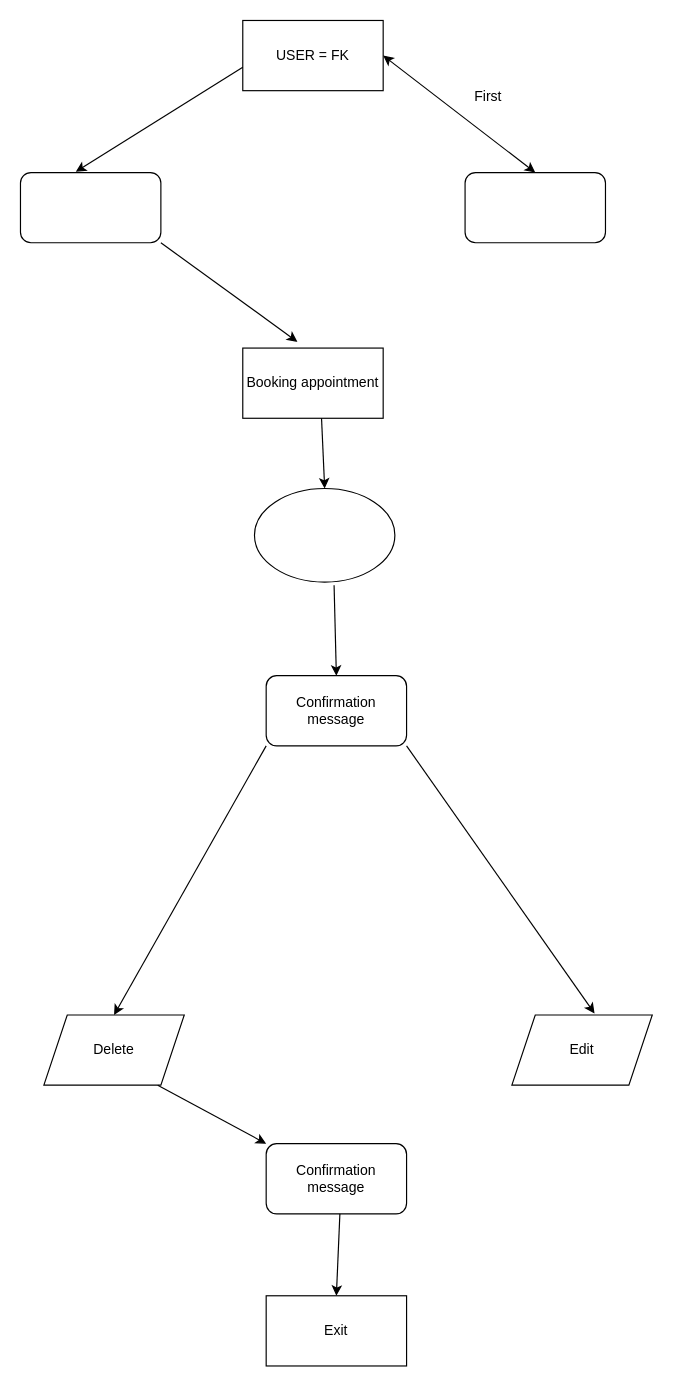
Some shapes in this 673 by 1386 pixel diagram are drawn without their labels. Each missing label, with the box of its shape:
Date: (253, 487, 395, 582)
singUp: (464, 171, 605, 243)
User model: (19, 171, 161, 243)
